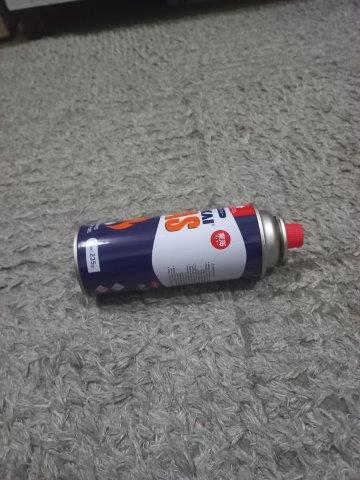kaleng: (74, 203, 305, 295)
